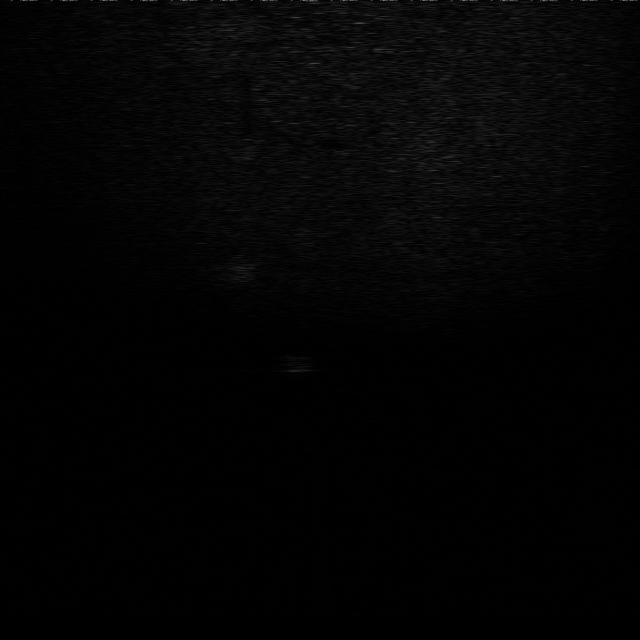ball: (232, 135, 268, 159)
circle cage: (216, 246, 269, 285)
tyre: (274, 346, 326, 375)
